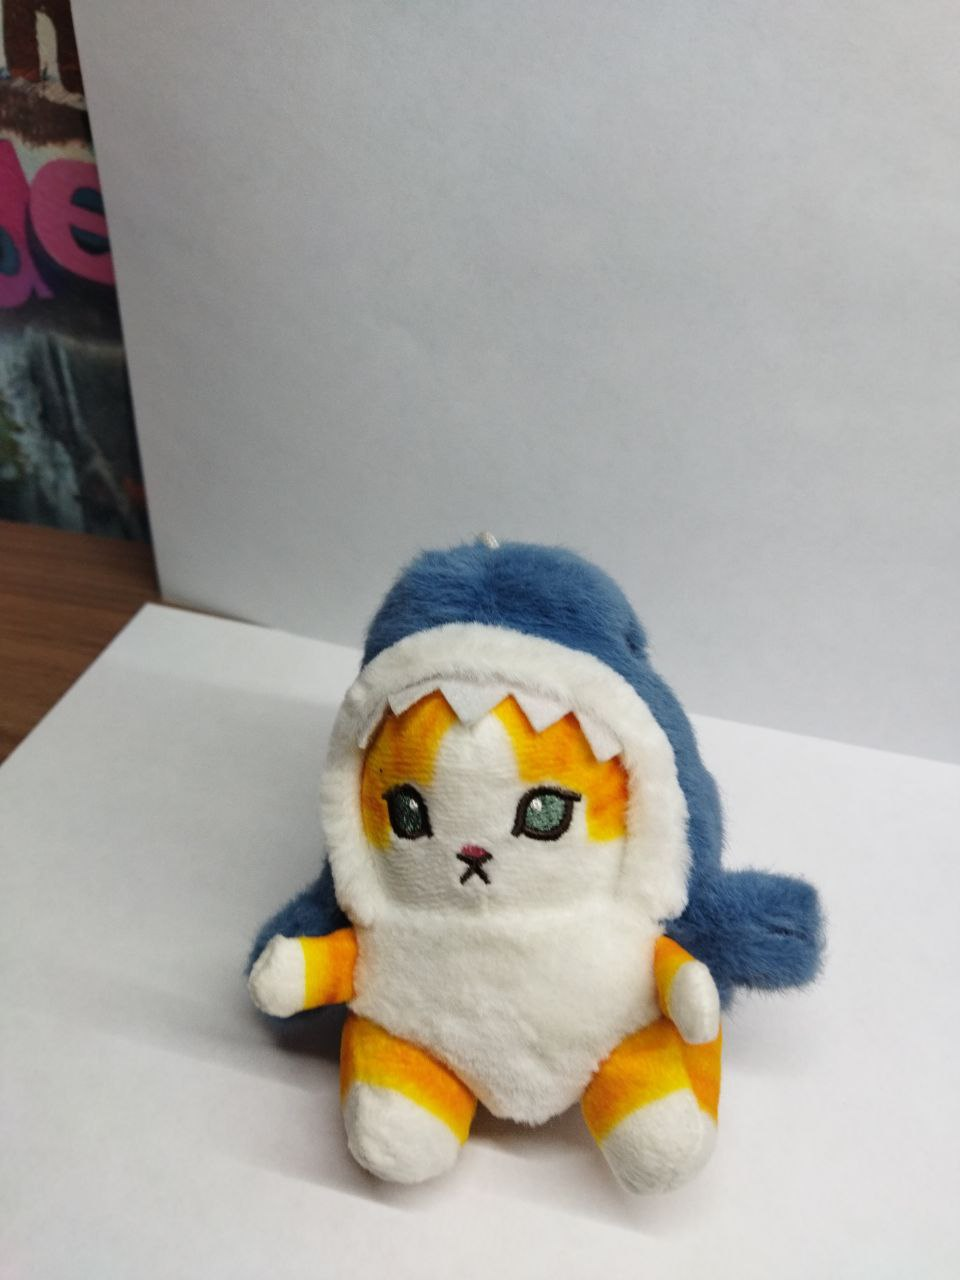Snark Cat: (245, 537, 823, 1195)
